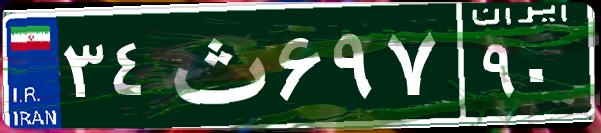0: (525, 38, 570, 115)
3: (57, 26, 110, 107)
4: (110, 28, 158, 105)
6: (273, 28, 330, 110)
7: (385, 28, 445, 110)
9: (330, 28, 385, 110), (475, 38, 525, 113)
ث: (158, 15, 273, 115)
